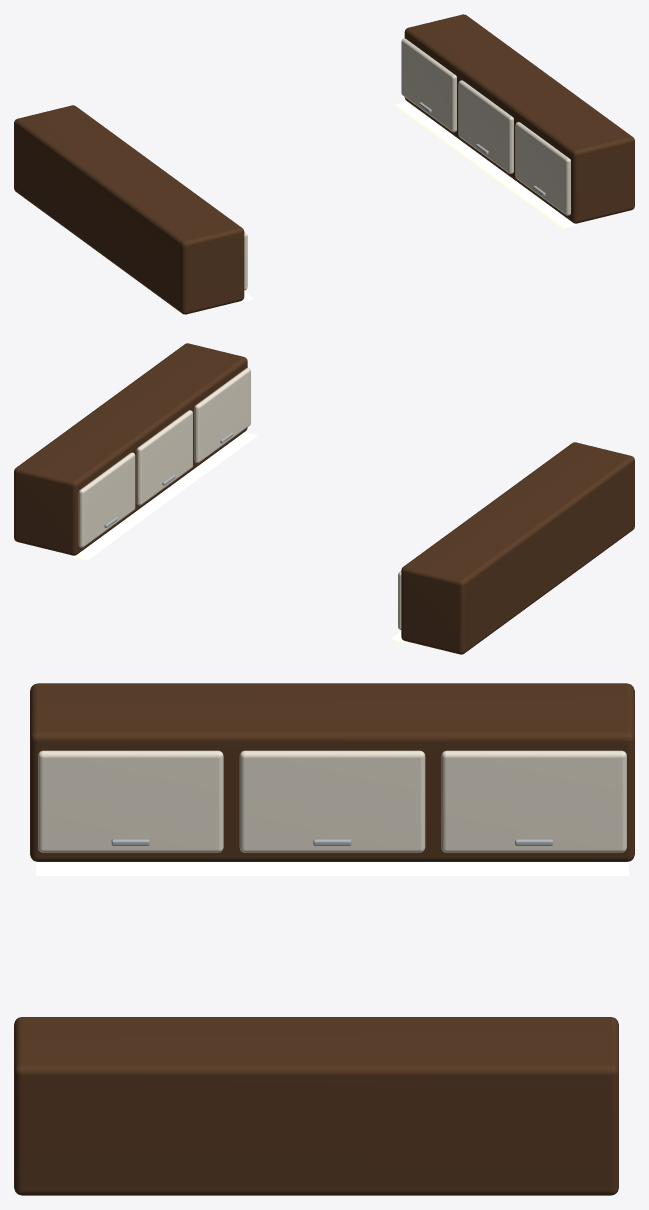
The model's file is lockers.glb.
3 renders of one model, top to bottom at view 1: azimuth 30°, elevation 25°; view 2: azimuth 150°, elevation 25°; view 3: azimuth 270°, elevation 25°, orthographic. The views are drawn at different scales.
Parts seen in each view (by area): view 1: lockers_kerb, lockers_off, lockers_details; view 2: lockers_off, lockers_kerb, lockers_details; view 3: lockers_kerb, lockers_off, lockers_details.
Boxes of the visible parts, box(x1,y1,x2,y2) form: lockers_kerb: box(401, 14, 634, 223); lockers_off: box(14, 105, 247, 314); lockers_details: box(238, 101, 576, 302); lockers_off: box(398, 442, 634, 654); lockers_kerb: box(14, 343, 250, 555); lockers_details: box(72, 432, 407, 642); lockers_kerb: box(14, 1017, 618, 1195); lockers_off: box(30, 683, 634, 861); lockers_details: box(36, 861, 628, 875).
Bounding box in the file's own units: 2.88 × 0.461 × 1.95.
